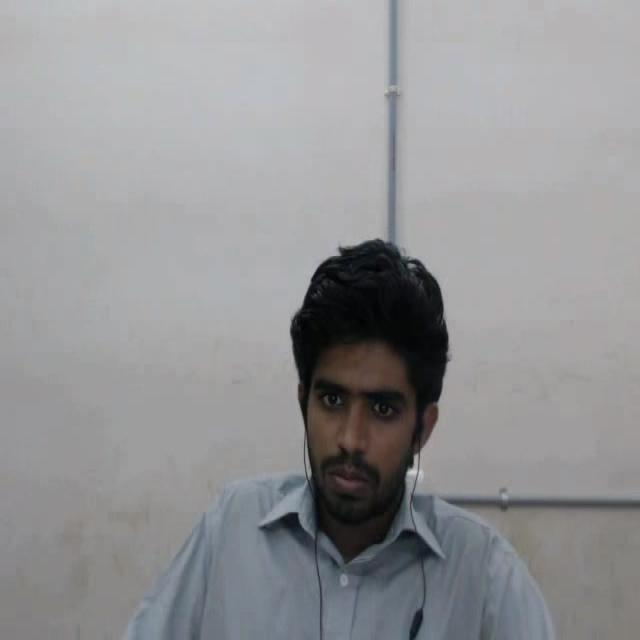Engaged: (266, 214, 446, 628)
